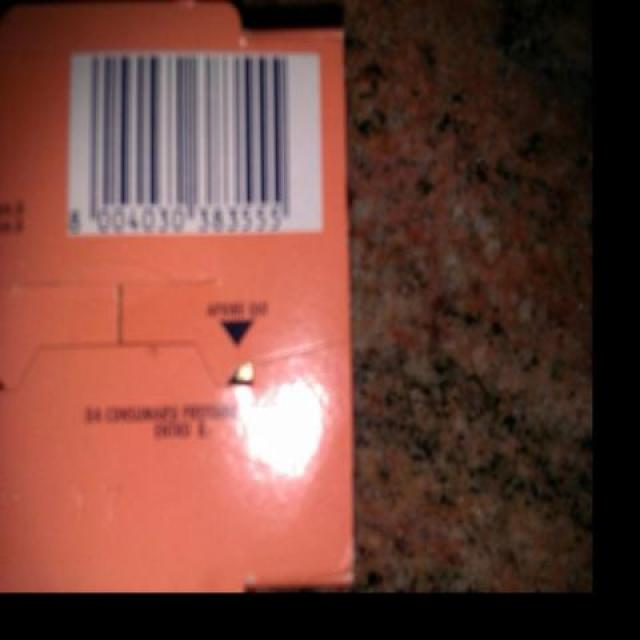Barcode: (66, 52, 319, 231)
